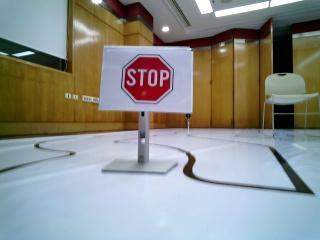stop: (105, 48, 190, 108)
